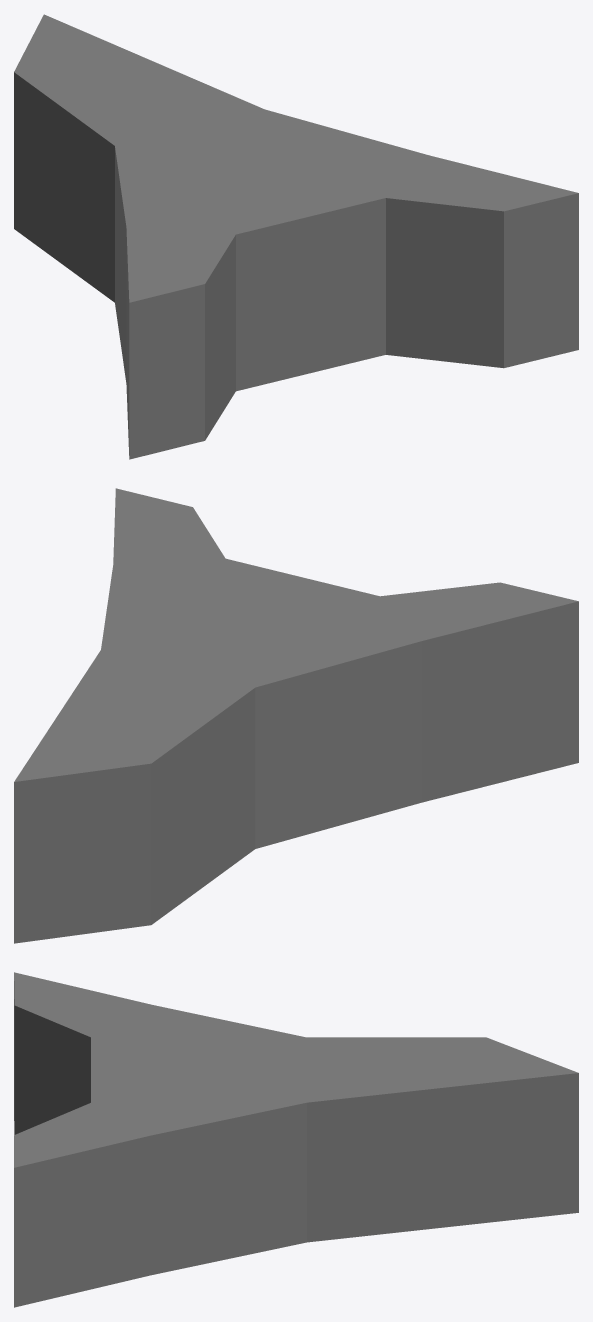
Rendered from base_destroyed_7.glb.
3 views of the same model, one above another, from view 1: azimuth 30°, elevation 25°; view 2: azimuth 150°, elevation 25°; view 3: azimuth 270°, elevation 25° (orthographic). The views are drawn at different scales.
Visible parts, largest first — view 1: base_destroyed_7; view 2: base_destroyed_7; view 3: base_destroyed_7.
Boxes of the visible parts, box(x1,y1,x2,y2) form: base_destroyed_7: box(14, 14, 578, 459); base_destroyed_7: box(14, 488, 578, 943); base_destroyed_7: box(14, 972, 578, 1307).
Size of the model in its own units: 0.6 by 0.2 by 0.7325.
1 material, 1 textured.
